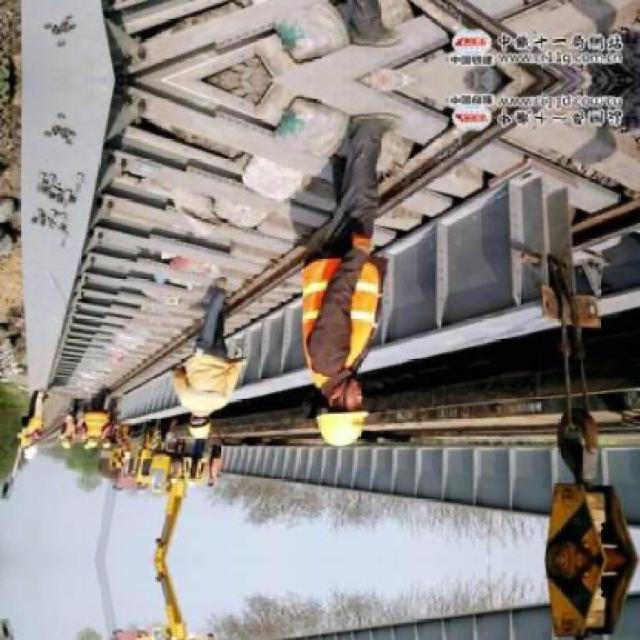con casco: (297, 372, 383, 482), (188, 405, 216, 445)
